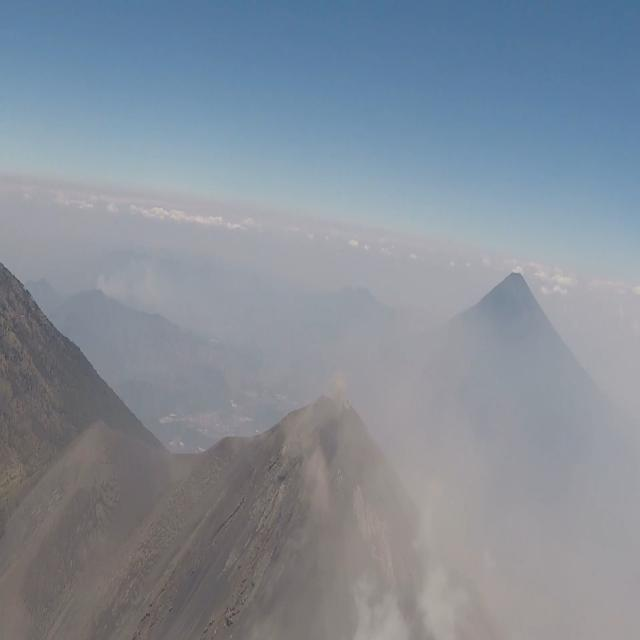Summit: (202, 363, 432, 530)
